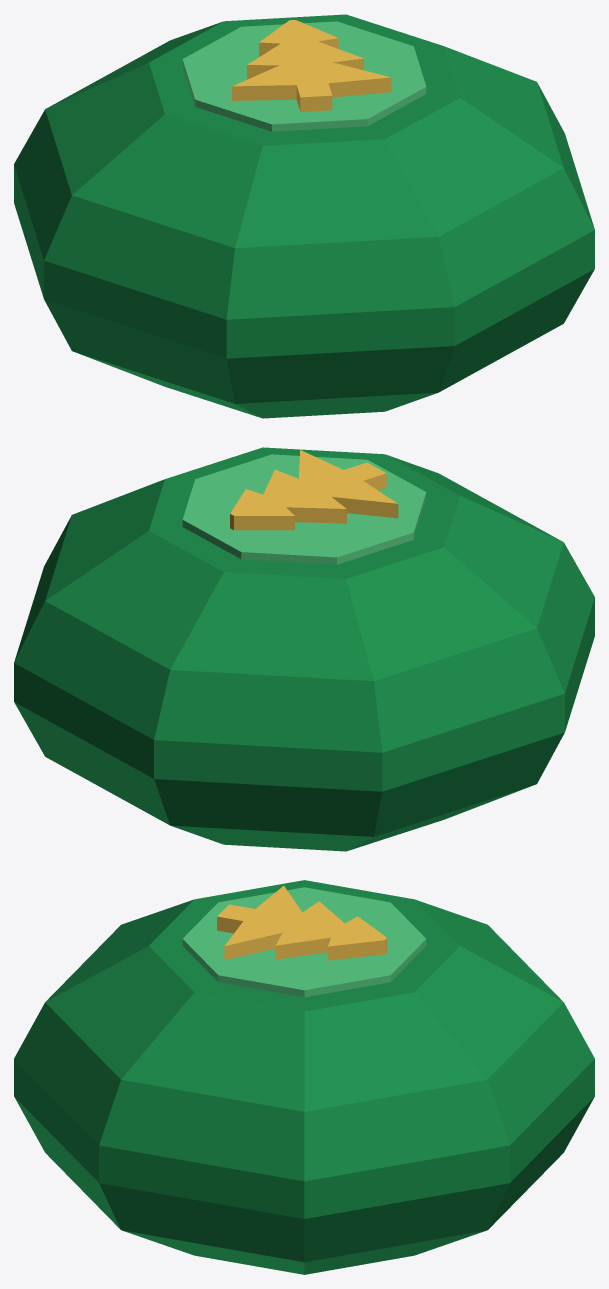
The model's file is w2_secretcore_forestcore.fbx.
3 views of the same model, one above another, from view 1: azimuth 30°, elevation 25°; view 2: azimuth 150°, elevation 25°; view 3: azimuth 270°, elevation 25° (orthographic). The views are drawn at different scales.
Parts seen in each view (by area): view 1: ForestCore.Gem, ForestCore.Table, ForestCore.Pine; view 2: ForestCore.Gem, ForestCore.Table, ForestCore.Pine; view 3: ForestCore.Gem, ForestCore.Table, ForestCore.Pine.
Part boxes in pixels (<box>): ForestCore.Gem: <box>14,14,594,418</box>; ForestCore.Table: <box>182,21,426,131</box>; ForestCore.Pine: <box>232,20,391,111</box>; ForestCore.Gem: <box>14,447,594,851</box>; ForestCore.Table: <box>182,454,426,564</box>; ForestCore.Pine: <box>230,450,398,530</box>; ForestCore.Gem: <box>14,880,594,1274</box>; ForestCore.Table: <box>182,887,426,997</box>; ForestCore.Pine: <box>217,886,387,960</box>.
Bounding box in the file's own units: 0.296 × 0.1639 × 0.296.
